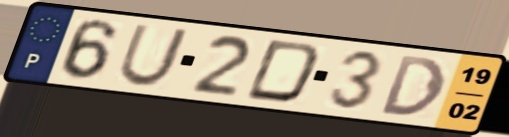2: (188, 33, 256, 99)
3: (326, 49, 386, 112)
6: (58, 17, 123, 83)
D: (240, 37, 325, 106), (378, 53, 448, 118)
U: (114, 22, 193, 89)
